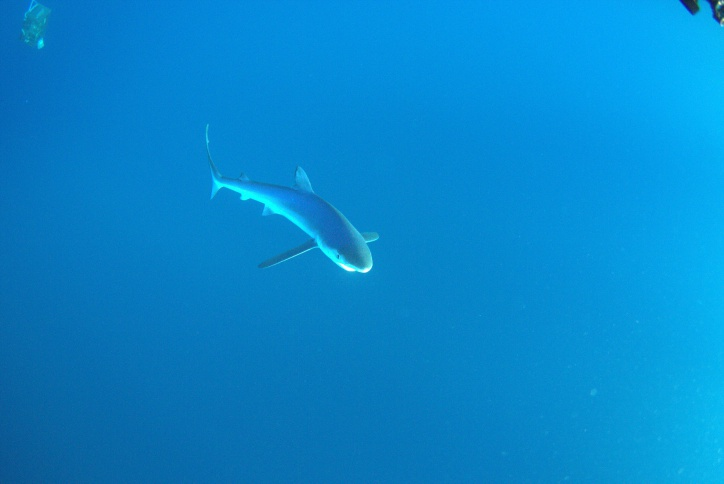Azul: (191, 114, 392, 290)
